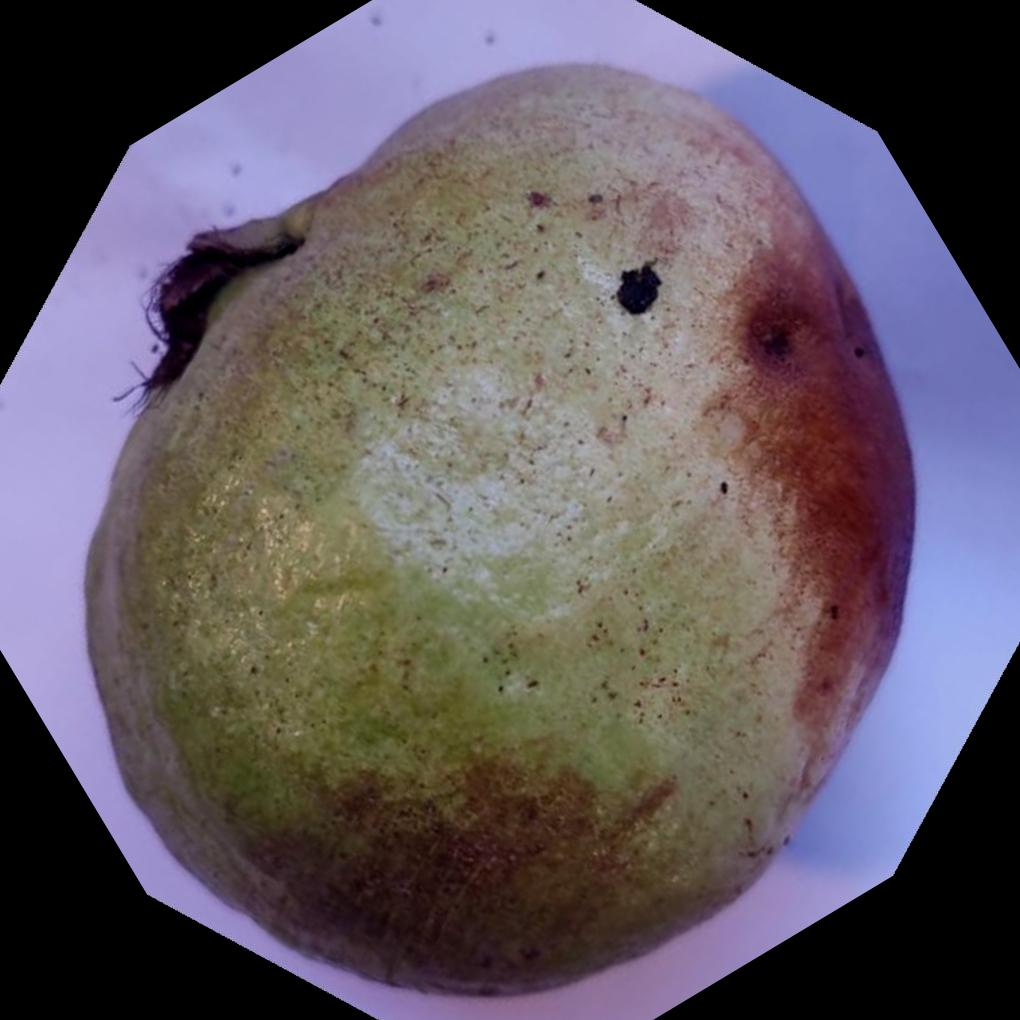FreshOrange: (80, 55, 916, 996)
